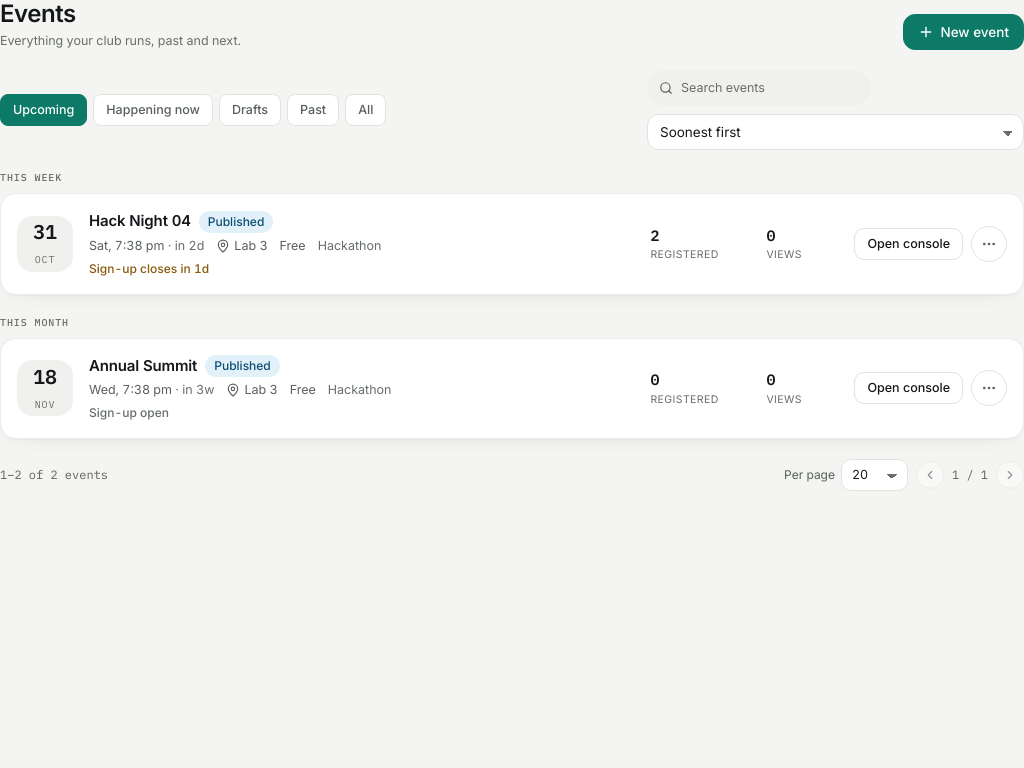
Test: deleting an event from the events list › keeps the event when the organiser backs out
This screenshot has width=1024, height=768.
Press Enter in the button named "More for Hack Night 04", box x1=971 y1=226 x2=1007 y2=262
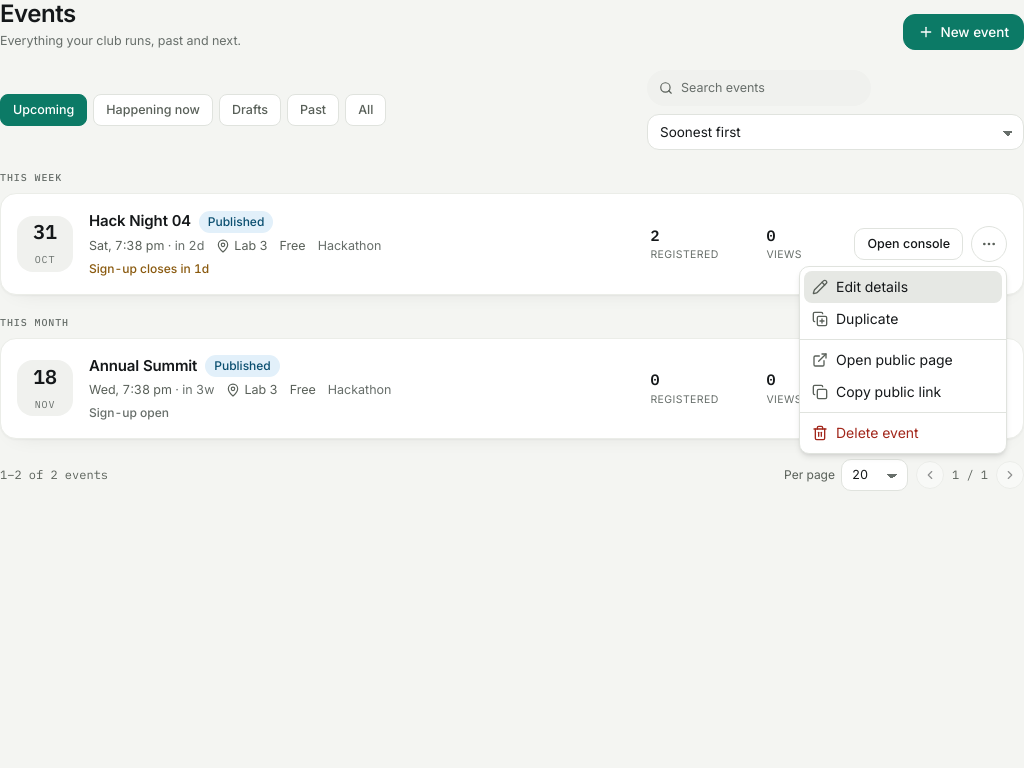
Click the menu item "Delete event" at (865, 432), box x1=812 y1=424 x2=919 y2=441
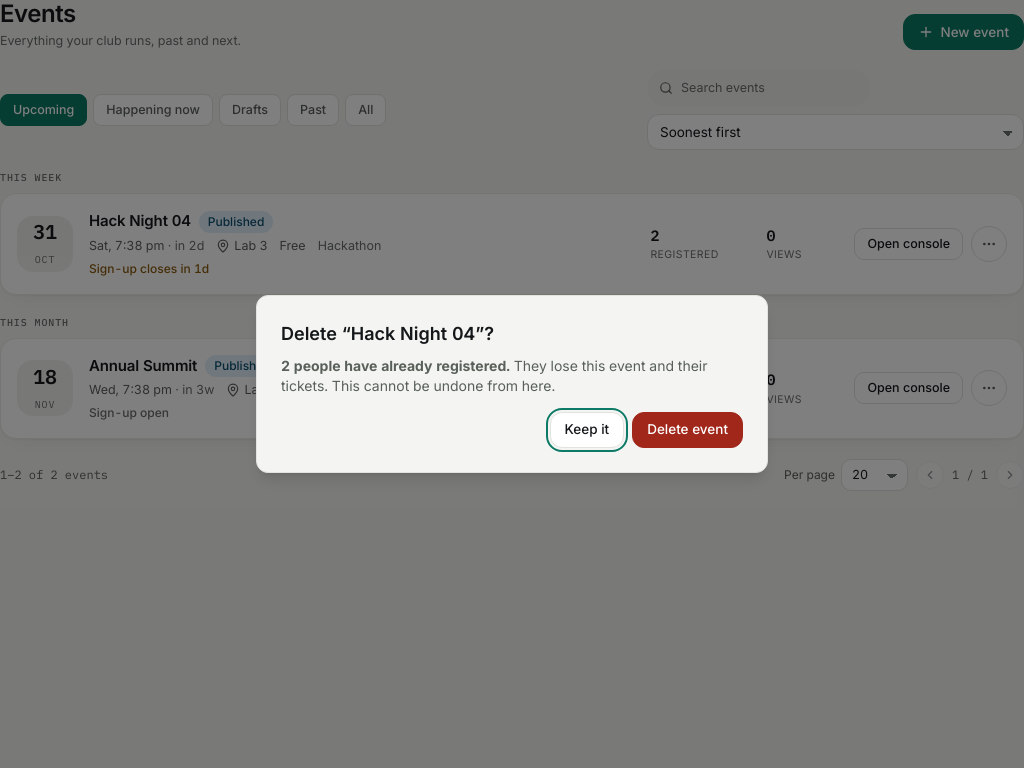
Click the button "Keep it" at (587, 430), box x1=550 y1=412 x2=624 y2=448
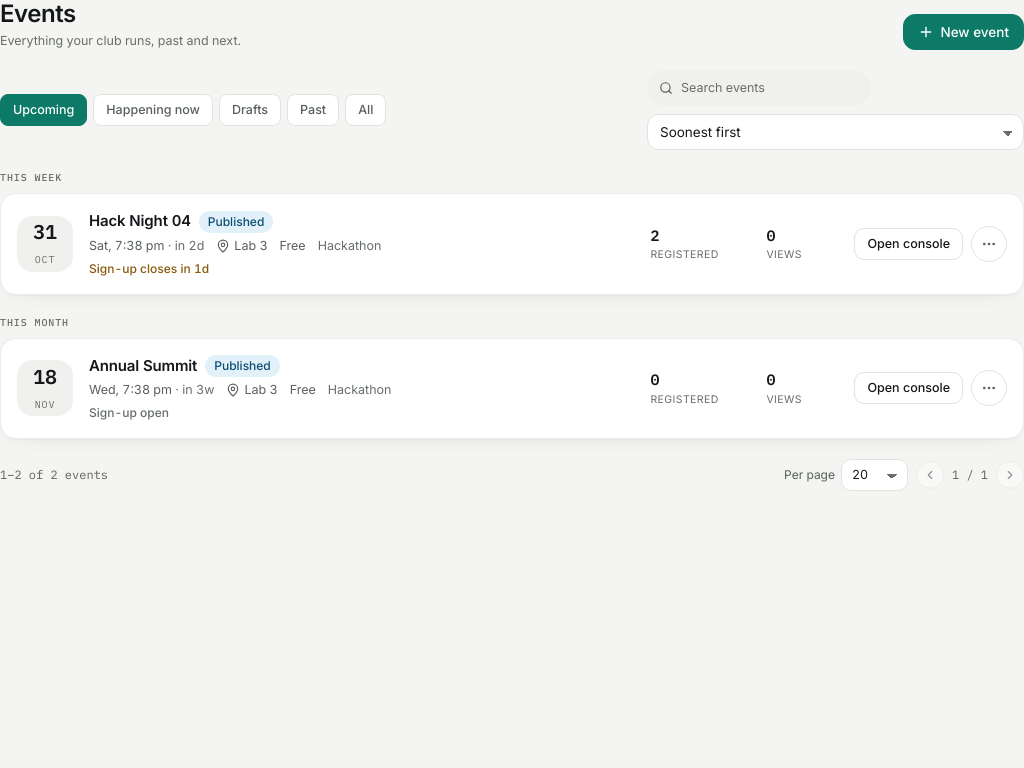
Expected: the link "Hack Night 04" is shown, x1=89 y1=210 x2=191 y2=233
Now the dialog is gone
